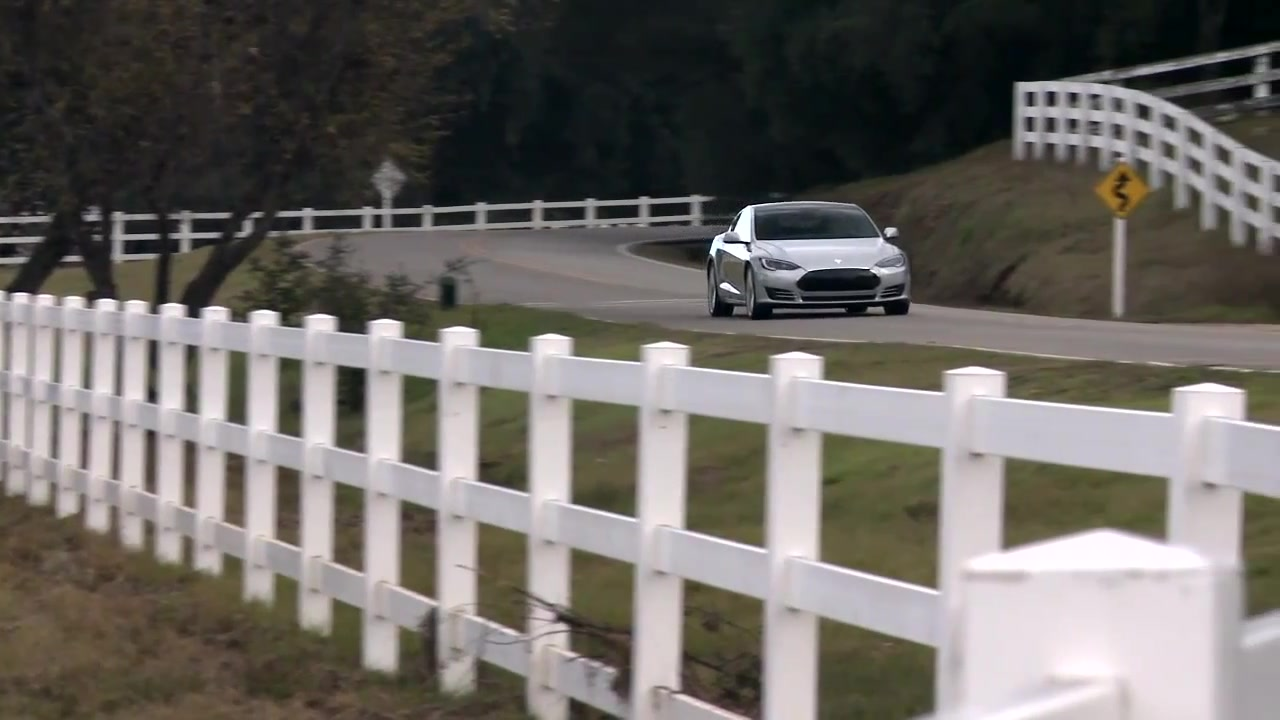car: (702, 201, 918, 323)
